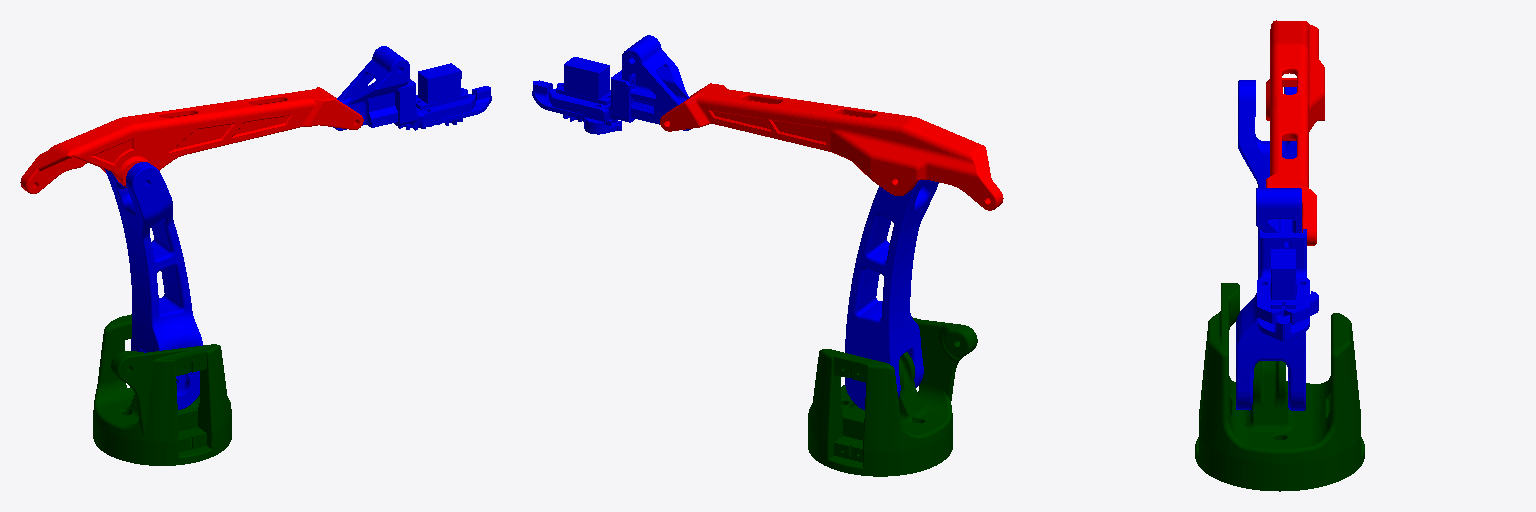
The robot description file, URDF, robot "sibot":
<?xml version="1.0"?>

<robot
  name="sibot">

<!-- BASE LINK -->
  <link
    name="base_link">
    <visual>
      <origin
        xyz="0 0 0"
        rpy="0 0 0" />
      <geometry>
        <mesh
          filename="package://sibot_urdf/meshes/base_link.STL" />
      </geometry>
      <material
        name="">
        <color
          rgba="0 0.275 0 1" />
      </material>
    </visual>
  </link>

<!-- JOINT 1 -->
  <joint
    name="joint_1"
    type="revolute">
    <origin
      xyz="0 0 0.05"
      rpy="0 0 0" />
    <parent
      link="base_link" />
    <child
      link="link_1" />
    <axis
      xyz="0 0 1" />
    <limit
      effort="0"
      velocity="0"
      lower="-0.7854" upper="0.7854"/>
      <!--   [-45,45]-->
  </joint>

<!-- LINK 1 -->
  <link
    name="link_1">
    <visual>
      <origin
        xyz="0 -0.04 0"
        rpy="0 0 0" />
      <geometry>
        <mesh
          filename="package://sibot_urdf/meshes/link_1.STL" />
      </geometry>
      <material
        name="">
        <color
          rgba="0 0.275 0 1" />
      </material>
    </visual>
  </link>

<!-- JOINT 2 -->
  <joint
    name="joint_2"
    type="revolute">
    <origin
      xyz="0 -0.005 0.035"
      rpy="-1.578 0 0" />
    <parent
      link="link_1" />
    <child
      link="link_2" />
    <axis
      xyz="0 0 1" />
    <limit
      effort="0"
      velocity="0"
      lower="-0.6109" upper="0.9599"/>
      <!--   [-35,55]-->
  </joint>

<!-- LINK 2-->
  <link
    name="link_2">
    <visual>
      <origin
        xyz="0 0 -0.0075"
        rpy="0 0 0" />
      <geometry>
        <mesh
          filename="package://sibot_urdf/meshes/link_2.STL" />
      </geometry>
      <material
        name="">
        <color
          rgba="0 0 1 1" />
      </material>
    </visual>
  </link>

<!-- JOINT 3 -->
  <joint
    name="joint_3"
    type="revolute">
    <origin
      xyz="-0.021 -0.133 0.0105"
      rpy="0 0 0" />
    <parent
      link="link_2" />
    <child
      link="link_3" />
    <axis
      xyz="0 0 1" />
    <limit
      effort="0"
      velocity="0"
      lower="-1.2217" upper="0.3491"/>
      <!--   [-70,20]-->
  </joint>

<!-- LINK 3 -->
   <link
    name="link_3">
    <visual>
      <origin
        xyz="0 0 -0.0335"
        rpy="0 0 -0.1309" />
      <geometry>
        <mesh
          filename="package://sibot_urdf/meshes/link_3.STL" />
      </geometry>
      <material
        name="">
        <color
          rgba="1 0 0 1" />
      </material>
    </visual>
  </link>

<!-- JOINT 4 -->
  <joint
    name="joint_4"
    type="revolute">
    <origin
      xyz="0.14 0 0"
      rpy="0 0 0" />
    <parent
      link="link_3" />
    <child
      link="link_4_EE" />
    <axis
      xyz="0 0 1" />
<!-- The value of this joint can be computed as value = multiplier * other_joint_value + offset. -->
    <mimic
      joint = "joint_3"
      multiplier= "-1"
      offset = "0"/>
      <limit
        effort="0"
        velocity="0"/>
  </joint>

<!-- LINK 4 -->
  <link
    name="link_4_EE">
    <visual>
      <origin
        xyz="0 0 -0.013"
        rpy="1.578 0 0" />
      <geometry>
        <mesh
          filename="package://sibot_urdf/meshes/link_4_EE.STL" />
      </geometry>
      <material
        name="">
        <color
          rgba="0 0 1 1" />
      </material>
    </visual>
  </link>-->

</robot>

--- Render facts (derived) ---
3 views of the same robot in one strip: view 1: azimuth 30°, elevation 25°; view 2: azimuth 150°, elevation 25°; view 3: azimuth 270°, elevation 25° (orthographic).
Robot: sibot — 5 links, 4 joints (4 revolute); root link base_link; default pose: every joint at zero.
Visible links, largest first — view 1: link_1, link_3, link_2, link_4_EE; view 2: link_1, link_3, link_2, link_4_EE; view 3: link_1, link_3, link_4_EE, link_2.
Boxes of the visible links, <box> form: link_1: <box>93,314,231,465</box>; link_3: <box>20,87,363,193</box>; link_2: <box>105,162,202,409</box>; link_4_EE: <box>333,46,491,130</box>; link_1: <box>808,317,977,476</box>; link_3: <box>660,83,1003,210</box>; link_2: <box>845,180,938,409</box>; link_4_EE: <box>532,35,690,134</box>; link_1: <box>1195,283,1364,491</box>; link_3: <box>1266,20,1324,245</box>; link_4_EE: <box>1256,188,1318,341</box>; link_2: <box>1236,80,1305,410</box>.
Bounding box of the posed robot: 0.3044 × 0.08 × 0.2091 m (x, y, z).
Meshes: 5 distinct files referenced, 4 mesh visuals loaded (4 binary STL); not drawn: 1 (reference not matched to a file when rendering).